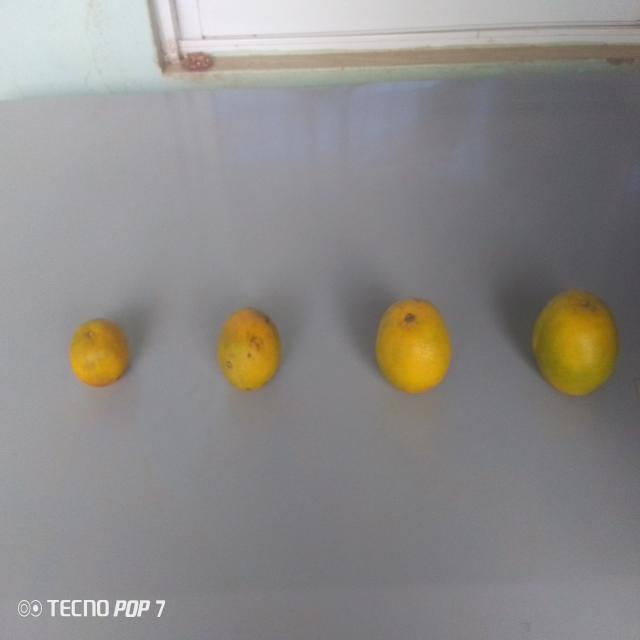Ripe orange: (530, 284, 620, 408), (369, 293, 457, 404), (210, 305, 283, 392), (69, 316, 134, 392)
